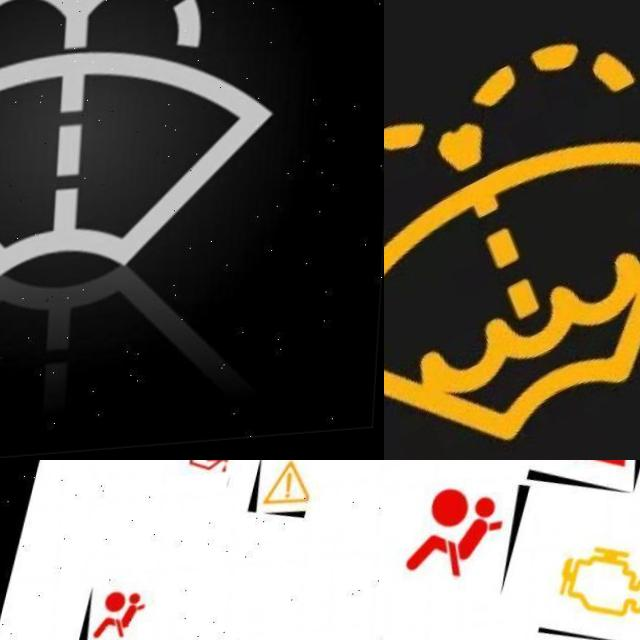Washer Fluid: (384, 37, 640, 460), (0, 0, 292, 290)
